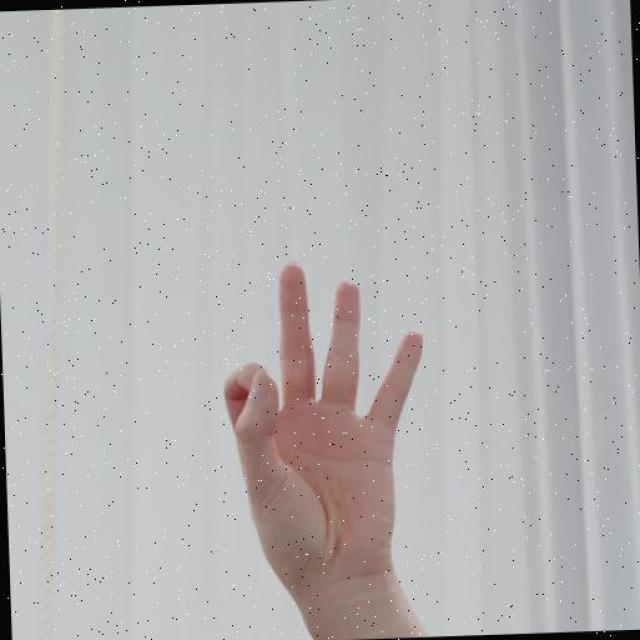F: (214, 254, 433, 595)
